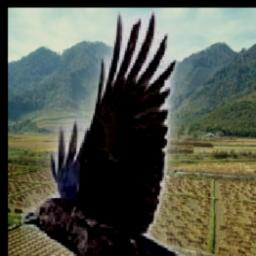Crow: (21, 11, 207, 256)
